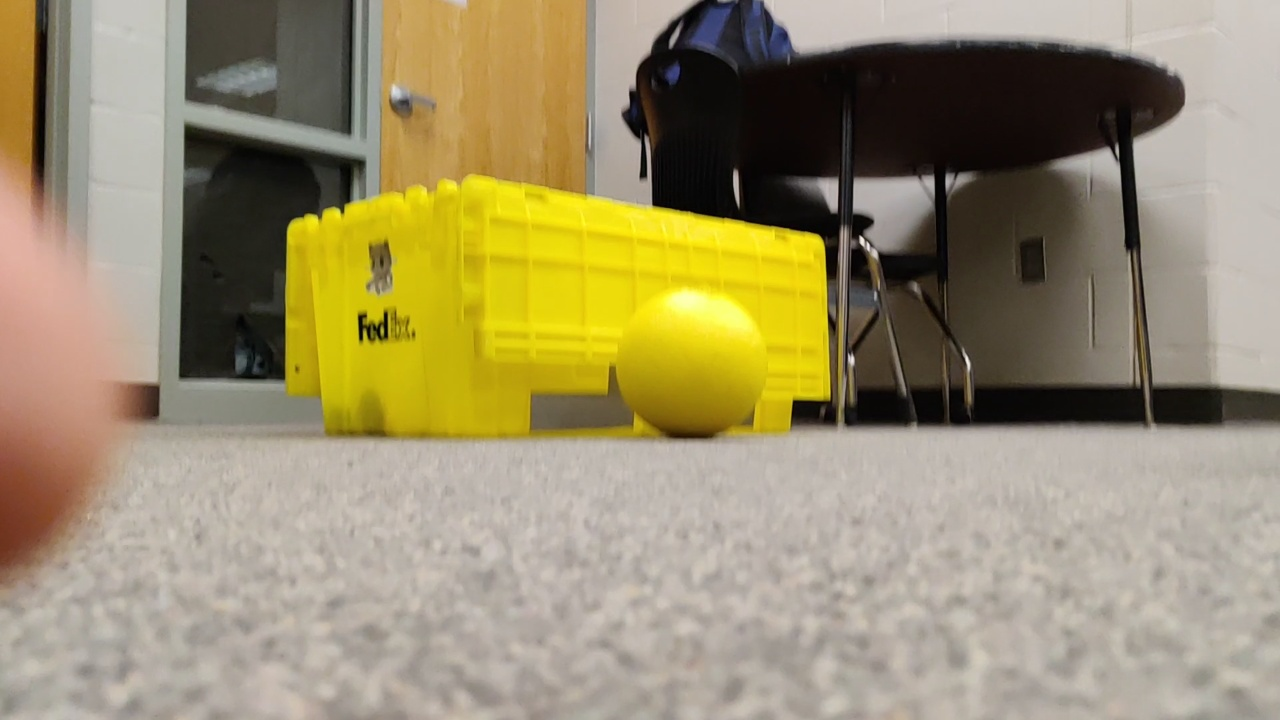Ball: (609, 286, 777, 436)
